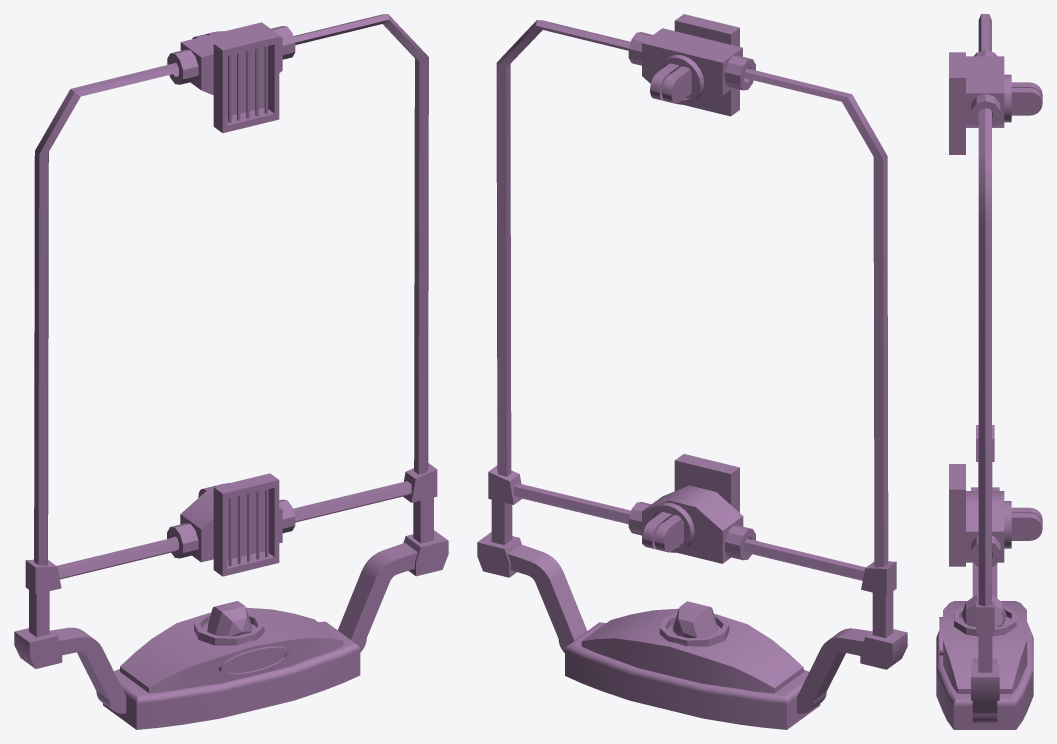
The model's file is Tap Obstacle 1.fbx.
3 views of the same model, side by side, from view 1: azimuth 30°, elevation 25°; view 2: azimuth 150°, elevation 25°; view 3: azimuth 270°, elevation 25° (orthographic). The views are drawn at different scales.
Visible parts, largest first — view 1: polySurface73; view 2: polySurface73; view 3: polySurface73.
Part boxes in pixels (bbox=[...]): polySurface73: bbox=[14, 14, 448, 729]; polySurface73: bbox=[477, 14, 907, 729]; polySurface73: bbox=[936, 14, 1042, 729].
Bounding box in the file's own units: 6.56 × 9.91 × 1.55.
